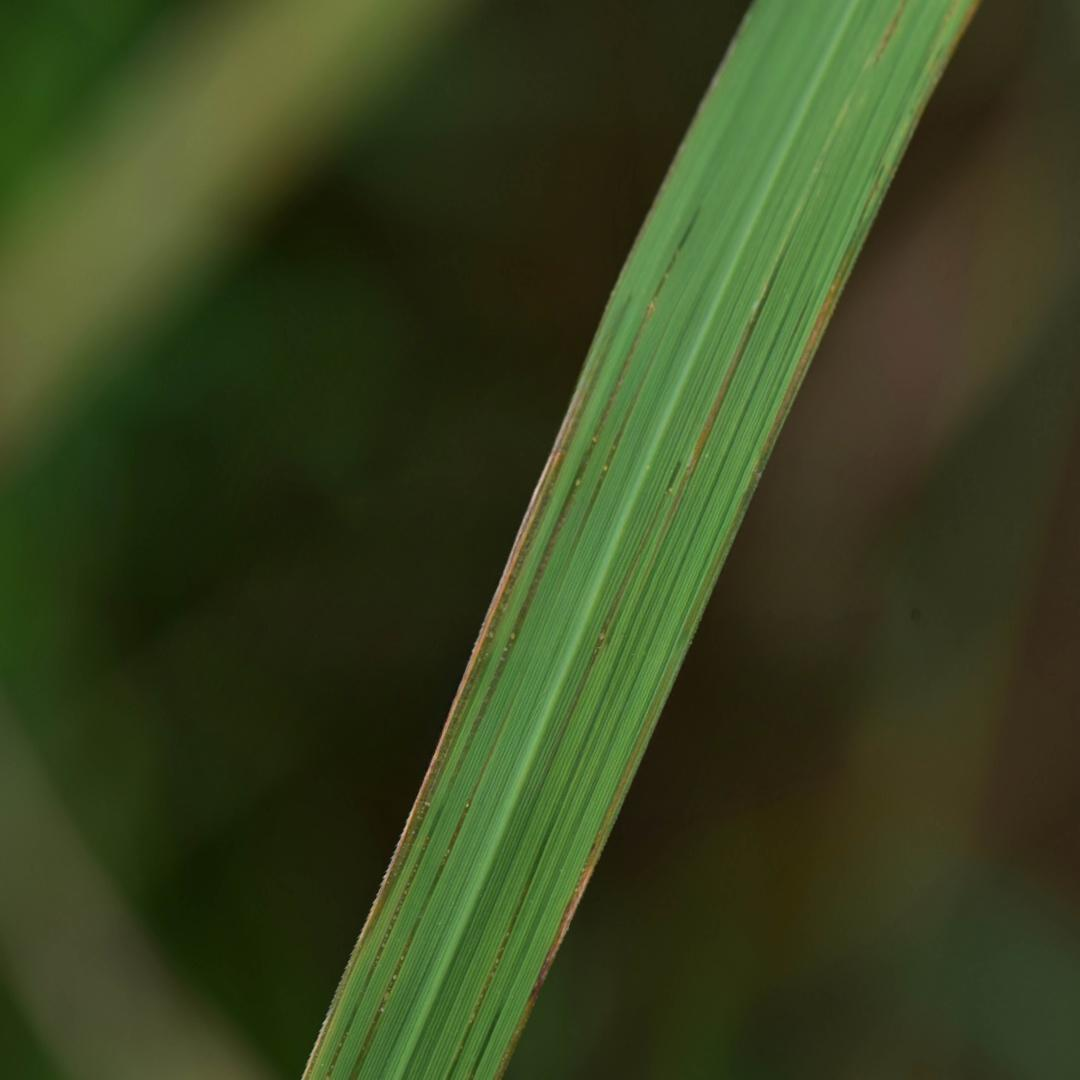BLS: (302, 12, 754, 1079), (324, 204, 701, 1078), (684, 2, 978, 632), (492, 686, 666, 1078), (348, 782, 480, 1078), (658, 251, 786, 538), (445, 804, 561, 1079), (588, 461, 682, 662), (590, 396, 637, 500), (469, 1008, 502, 1078), (873, 1, 908, 66)
LEAF: (301, 0, 980, 1079)
